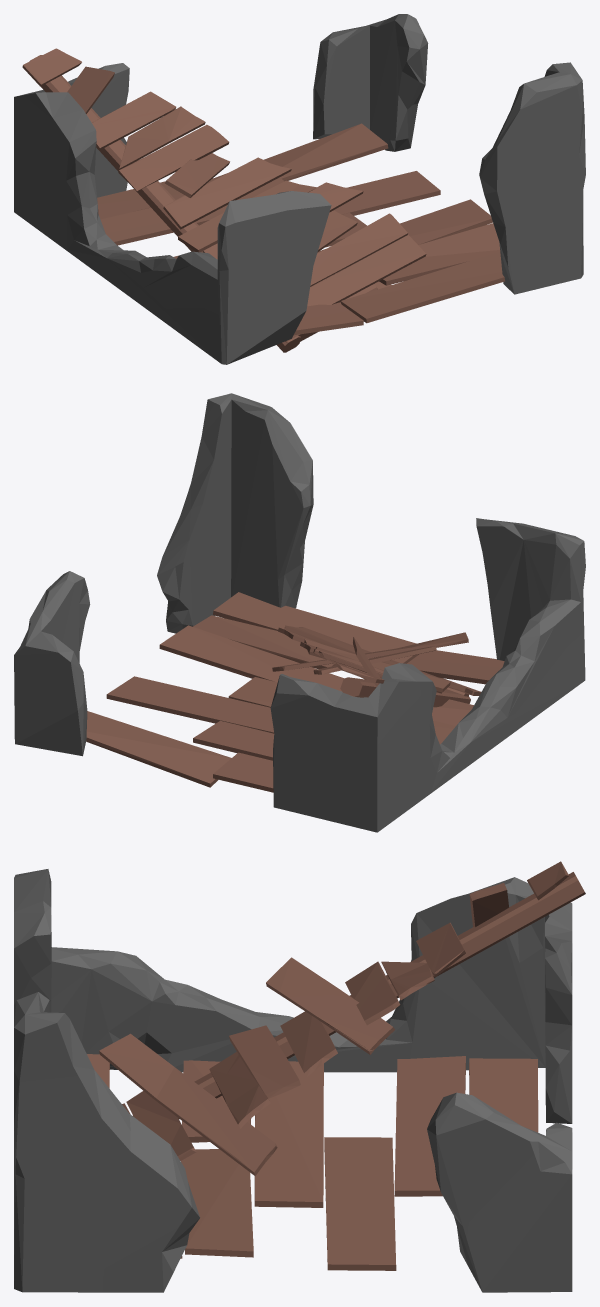
File: Ruin02.fbx
The picture shows the model from 3 angles, top to bottom: view 1: azimuth 30°, elevation 25°; view 2: azimuth 150°, elevation 25°; view 3: azimuth 270°, elevation 25°; orthographic projection. The views are drawn at different scales.
Visible parts, largest first — view 1: civilian_house_ruin_b; view 2: civilian_house_ruin_b; view 3: civilian_house_ruin_b.
Boxes of the visible parts, left/top/right/bottom form: civilian_house_ruin_b: left=14, top=14, right=585, bottom=364; civilian_house_ruin_b: left=14, top=393, right=585, bottom=832; civilian_house_ruin_b: left=14, top=861, right=585, bottom=1292.
Size of the model in its own units: 601 by 371 by 615.
